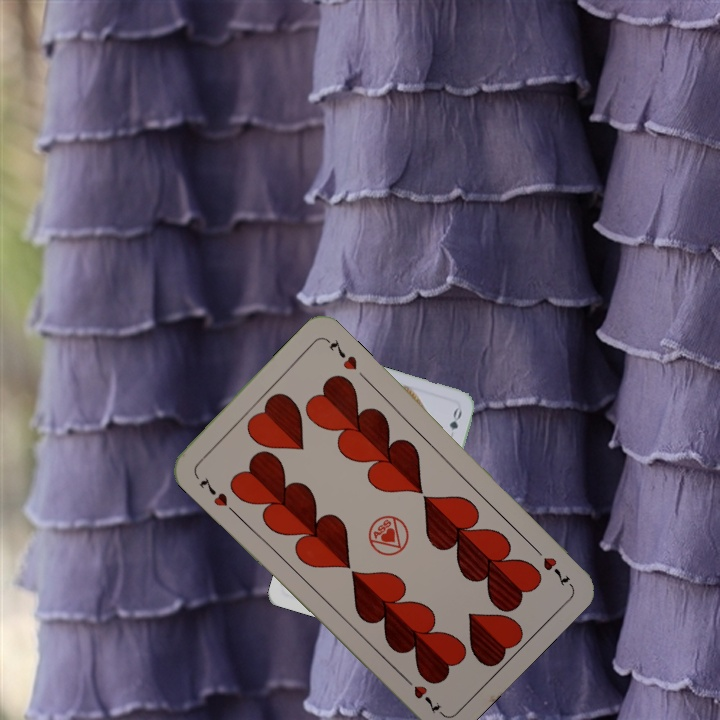H7: (528, 541, 573, 589), (195, 473, 231, 510)
